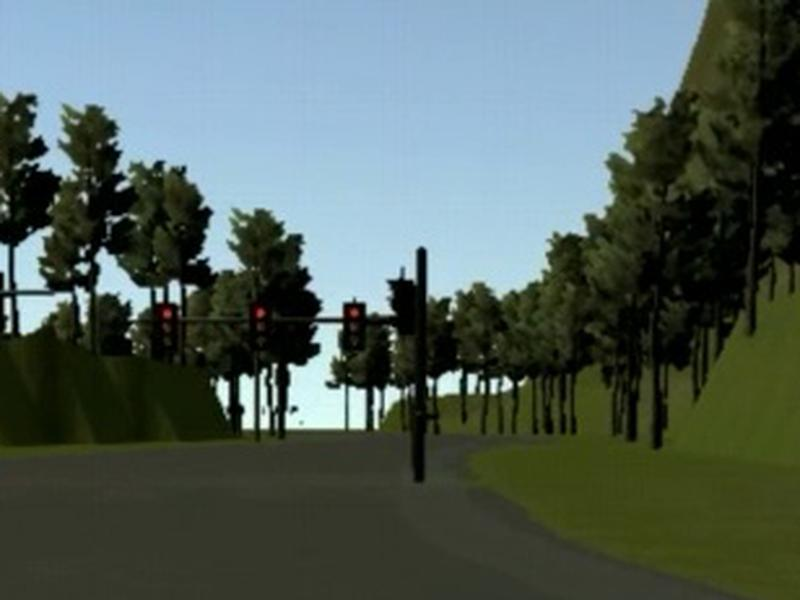Red: (157, 301, 178, 353), (343, 303, 365, 352), (251, 305, 272, 351)
